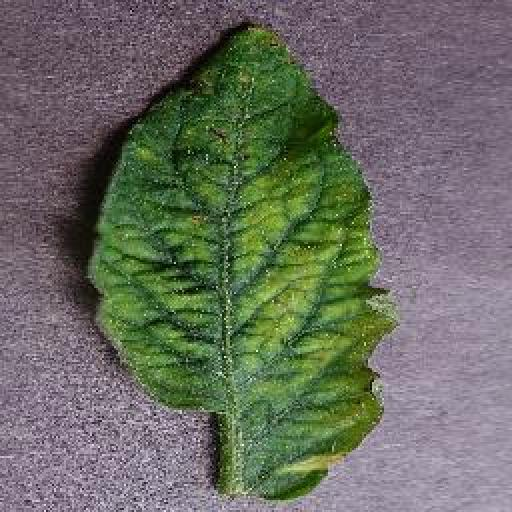Mosaic Virus: (80, 22, 398, 502)
